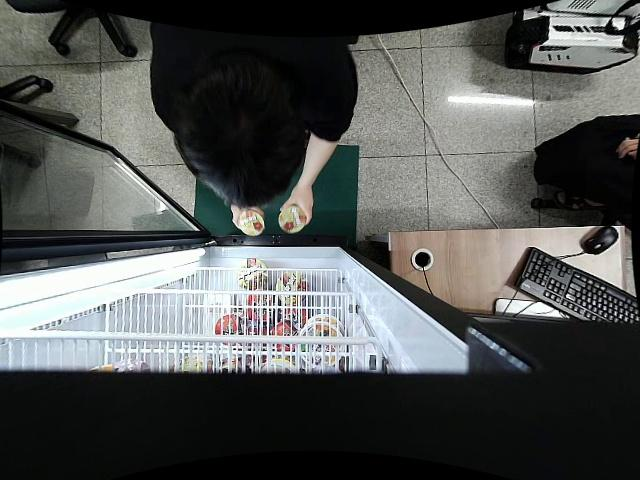00_hand: (281, 185, 315, 225)
04_chapagetti_S: (238, 207, 266, 237), (278, 206, 306, 234)
